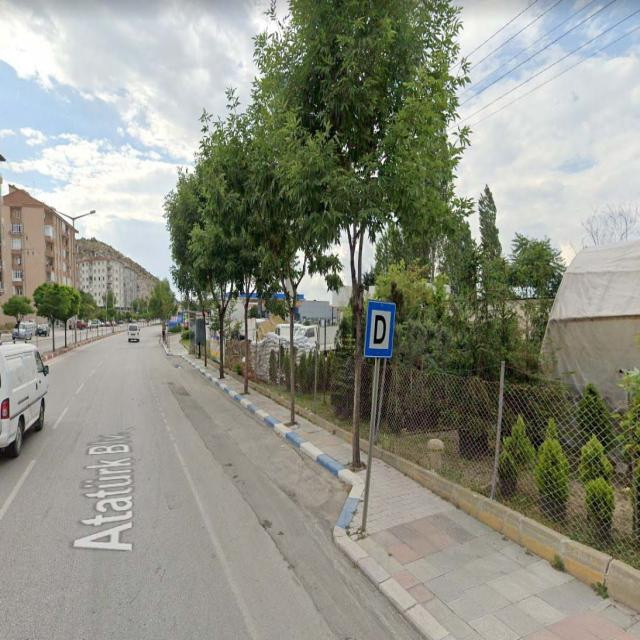durak: (368, 301, 395, 359)
